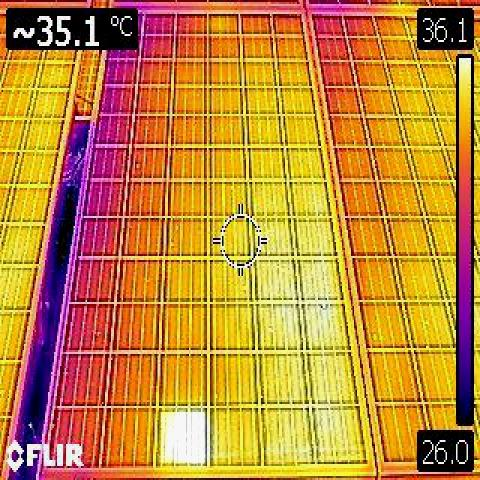fault: (161, 412, 205, 463)
